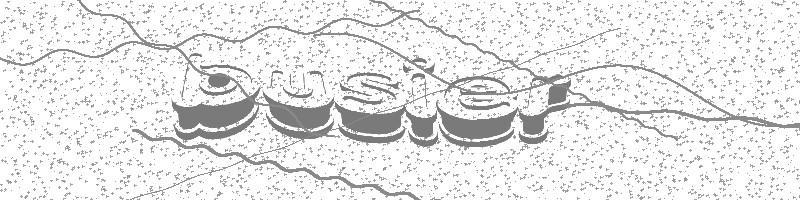b: (173, 53, 260, 139)
e: (438, 76, 518, 147)
i: (406, 59, 437, 147)
r: (519, 76, 570, 144)
s: (335, 73, 405, 143)
u: (263, 70, 334, 140)
